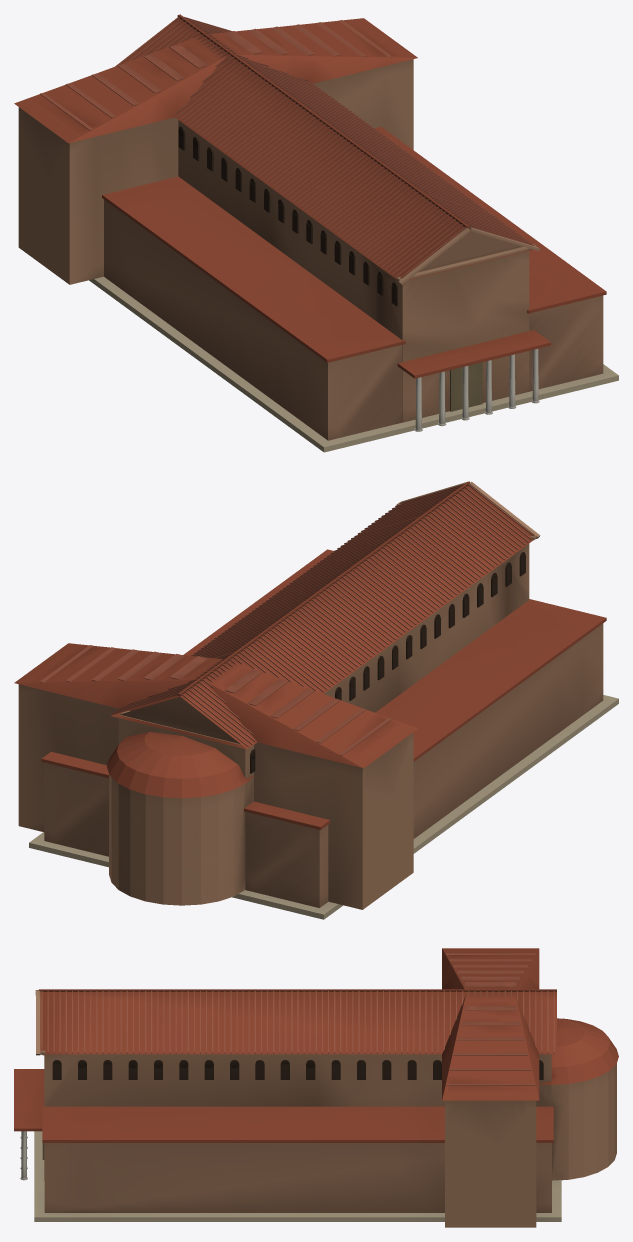
Rendered from lateran-basilica.glb.
3 renders of one model, top to bottom at view 1: azimuth 30°, elevation 25°; view 2: azimuth 150°, elevation 25°; view 3: azimuth 270°, elevation 25°, orthographic. The views are drawn at different scales.
Parts seen in each view (by area): view 1: p2_roofs, p1_porch, p0_base; view 2: p2_roofs, p1_porch, p0_base; view 3: p1_porch, p2_roofs, p0_base.
Part boxes in pixels (box(x1,y1,x2,y2)): p2_roofs: box(14, 14, 606, 378); p1_porch: box(18, 59, 603, 440); p0_base: box(89, 276, 618, 452); p2_roofs: box(14, 481, 606, 829); p1_porch: box(18, 543, 603, 909); p0_base: box(29, 695, 618, 919); p1_porch: box(20, 1054, 616, 1227); p2_roofs: box(14, 948, 618, 1142); p0_base: box(34, 1131, 561, 1221).
Size of the model in its own units: 71.2 by 36.51 by 119.
